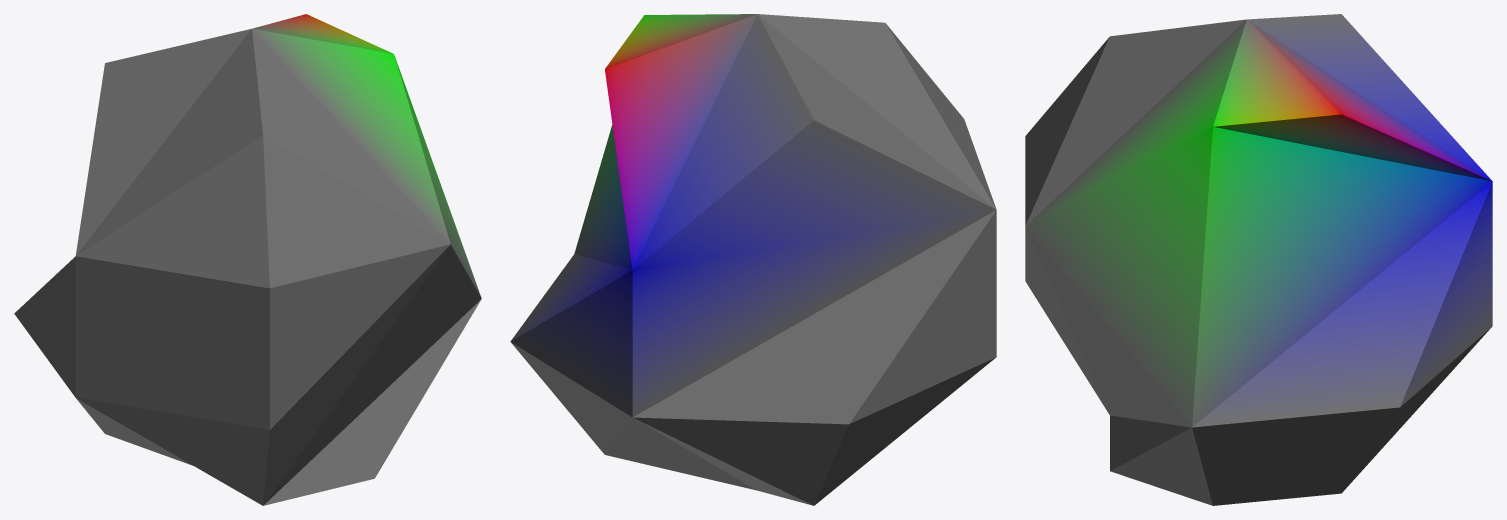
The model's file is before_cleaning_conquest_25.obj.
3 views of the same model, side by side, from view 1: azimuth 30°, elevation 25°; view 2: azimuth 150°, elevation 25°; view 3: azimuth 270°, elevation 25° (orthographic). The views are drawn at different scales.
Size of the model in its own units: 1.85 by 2 by 1.81.
